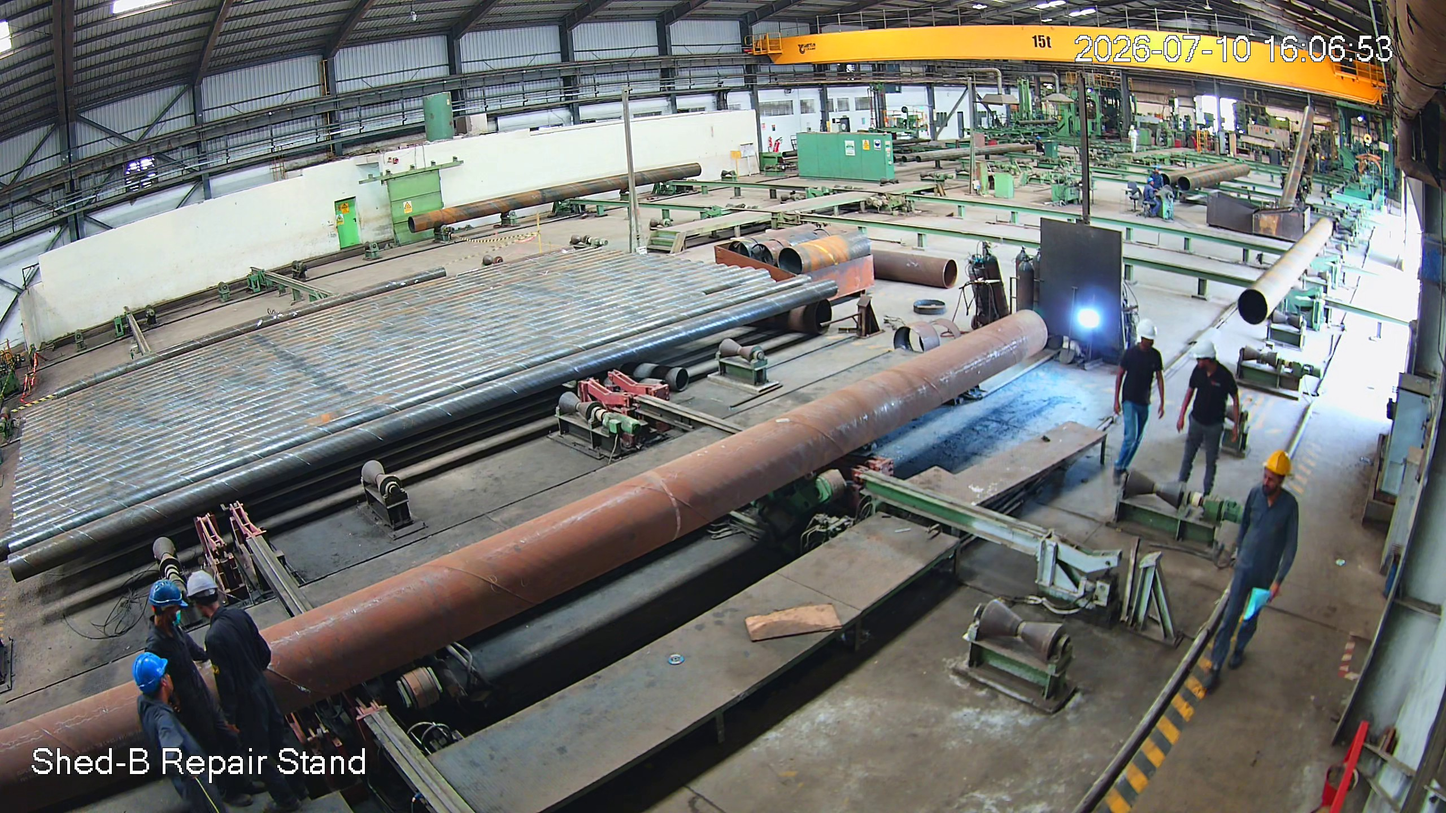Helmet: (124, 653, 198, 715), (1247, 440, 1305, 502), (133, 576, 194, 631), (178, 567, 231, 617), (1187, 336, 1235, 385), (1130, 312, 1164, 358)
Person: (1195, 447, 1312, 709), (173, 581, 252, 813), (120, 656, 208, 813), (125, 592, 180, 813), (1177, 339, 1245, 512), (1109, 316, 1168, 482)
